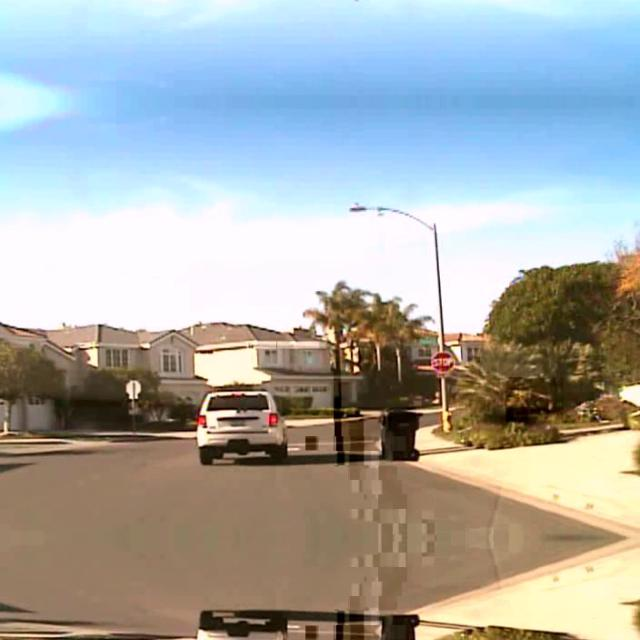stop: (431, 351, 453, 372)
